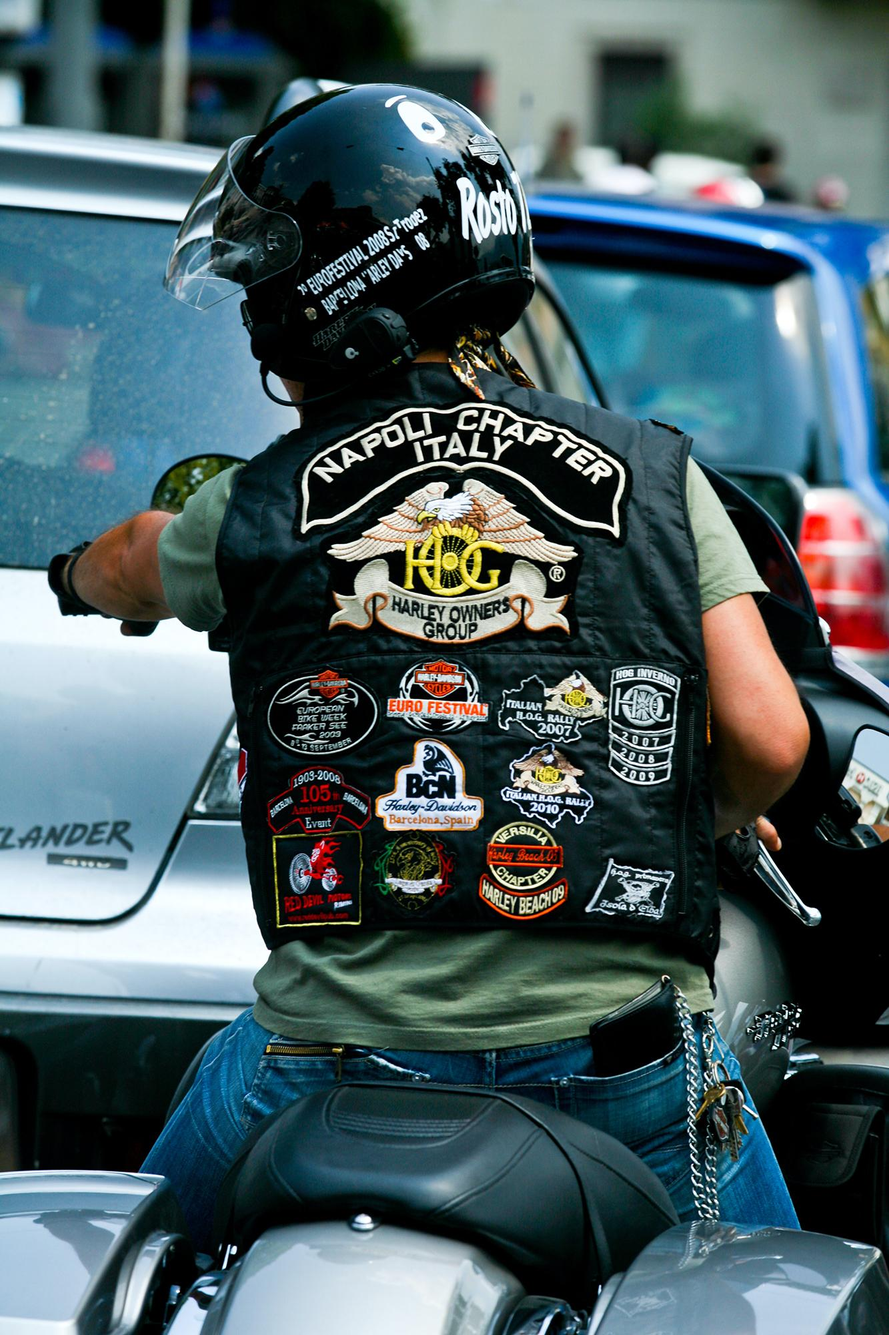helmet: (161, 74, 539, 410)
